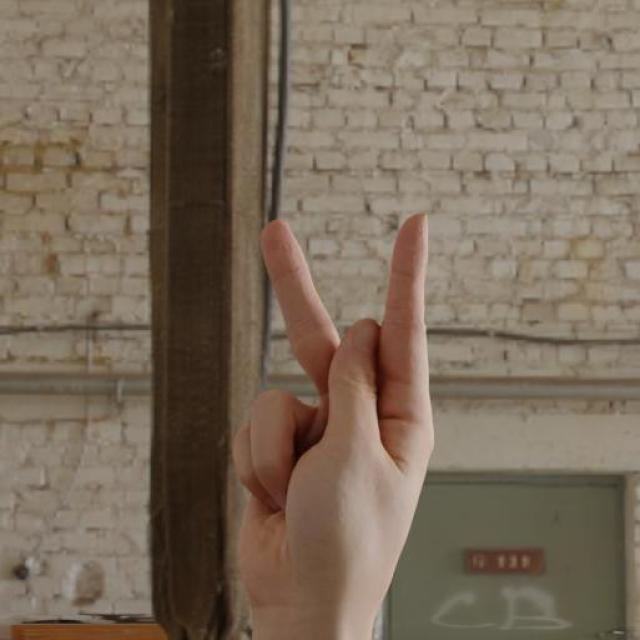K: (153, 162, 503, 630)
